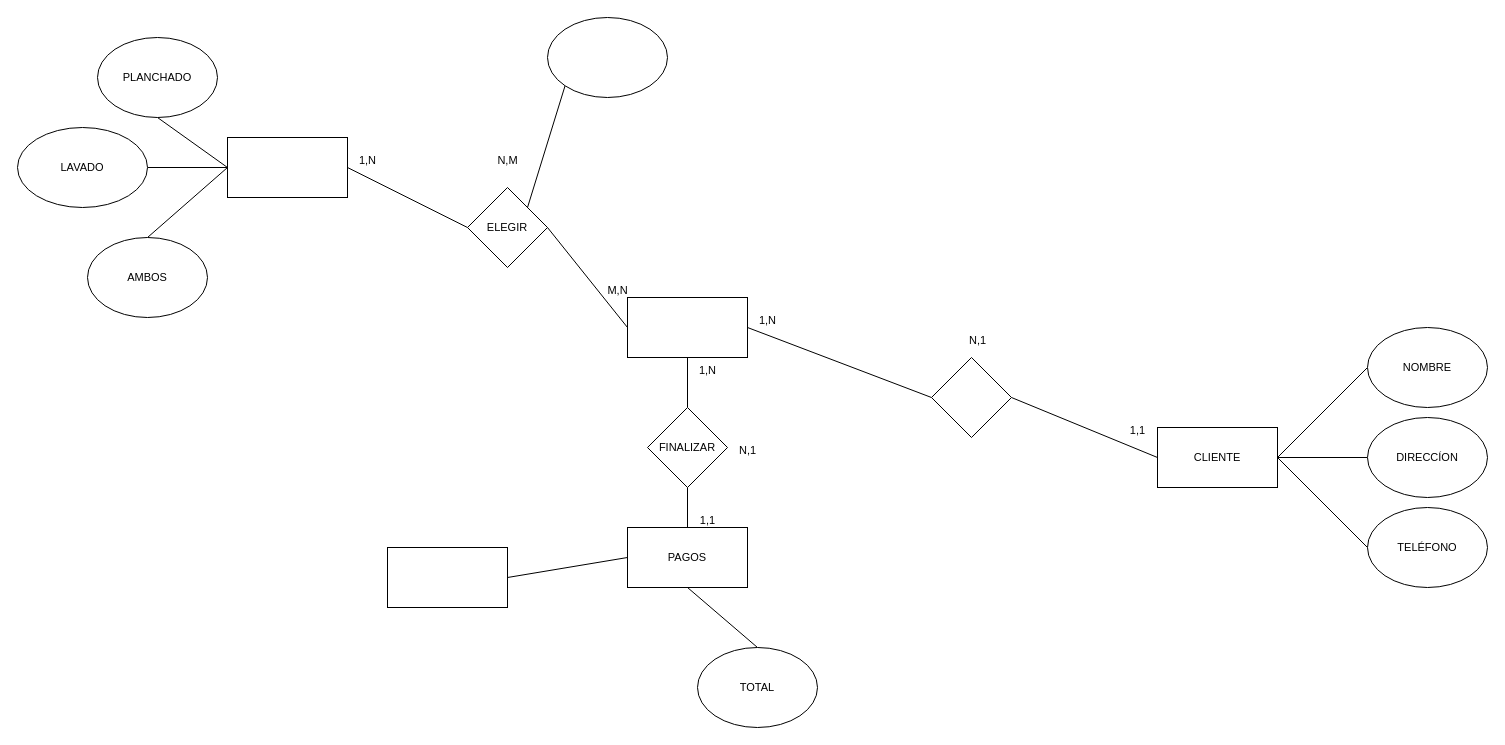
Image size: 1505x745. Some labels were removed from this diagram. The centre of each missing label's shape, as x and y in pixels:
"CANTIDAD DE PRENDAS" belongs at (607,57).
"ENUM (PENDIENTE, PAGADO)" belongs at (447,577).
"PEDIDO" belongs at (687,327).
"SERVICIO" belongs at (287,167).
"SOLICITAR" belongs at (971,397).
